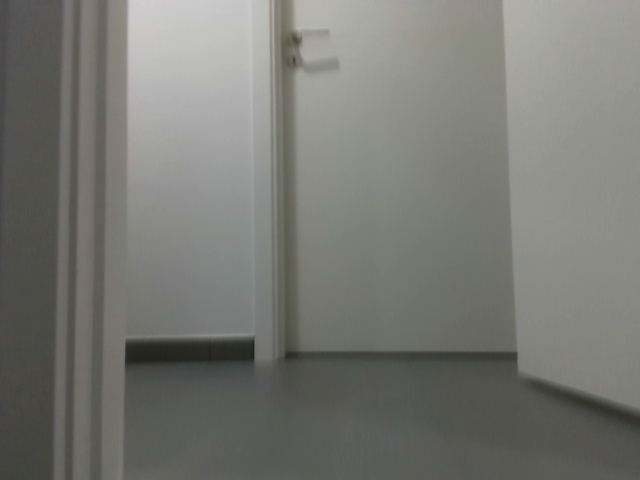alfa: (35, 284, 68, 345)
